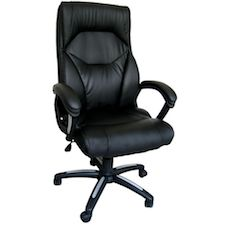chair: (36, 0, 197, 226)
